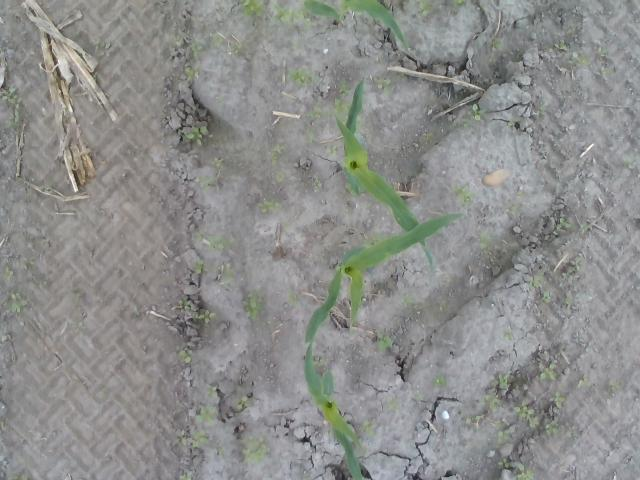Maize: (304, 212, 464, 346), (331, 76, 436, 272), (302, 338, 370, 480), (297, 0, 407, 50)
Weeds: (177, 430, 225, 456), (191, 228, 234, 252), (496, 457, 536, 480), (0, 87, 22, 128), (288, 64, 324, 88), (242, 432, 268, 464), (270, 142, 288, 186), (530, 272, 553, 304), (272, 5, 305, 27), (242, 290, 264, 322), (192, 402, 220, 427), (213, 32, 241, 56), (560, 255, 584, 282), (514, 404, 538, 428), (304, 103, 336, 121), (505, 190, 526, 217), (6, 290, 25, 319), (592, 47, 608, 81), (461, 102, 481, 128), (494, 418, 513, 445), (178, 126, 208, 143), (476, 390, 499, 411), (478, 230, 502, 250), (452, 184, 472, 206), (222, 264, 236, 293), (190, 36, 210, 56), (257, 199, 282, 214), (242, 0, 264, 17), (548, 392, 568, 410), (192, 174, 214, 190), (470, 30, 488, 49), (359, 419, 378, 437), (177, 346, 194, 366), (540, 367, 562, 382), (376, 78, 394, 96), (376, 336, 394, 353), (544, 420, 562, 437), (183, 63, 201, 80), (495, 371, 511, 389), (196, 310, 216, 324), (464, 414, 484, 428), (174, 298, 191, 314), (624, 154, 640, 170), (386, 398, 402, 413), (418, 0, 432, 17), (1, 264, 14, 282), (574, 52, 590, 66), (311, 176, 323, 194), (21, 255, 34, 271), (306, 126, 317, 144), (558, 214, 576, 225), (286, 289, 298, 305), (94, 40, 112, 50), (338, 78, 348, 96), (563, 290, 574, 306), (194, 261, 206, 275), (576, 376, 588, 390), (210, 157, 224, 169), (324, 144, 338, 156), (399, 295, 414, 306), (432, 376, 445, 388), (552, 40, 567, 50), (207, 384, 217, 398), (234, 399, 247, 409), (565, 23, 575, 35), (501, 331, 514, 340), (494, 39, 505, 49), (423, 132, 434, 142), (178, 471, 190, 480), (10, 474, 28, 480), (536, 106, 546, 116), (453, 0, 465, 8), (341, 104, 352, 112), (504, 120, 513, 128)
